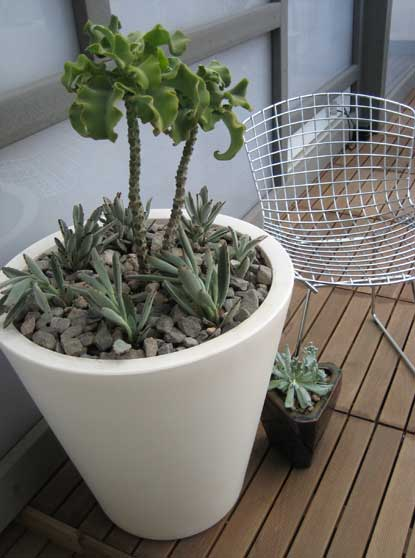flowerpot: (4, 208, 298, 534)
